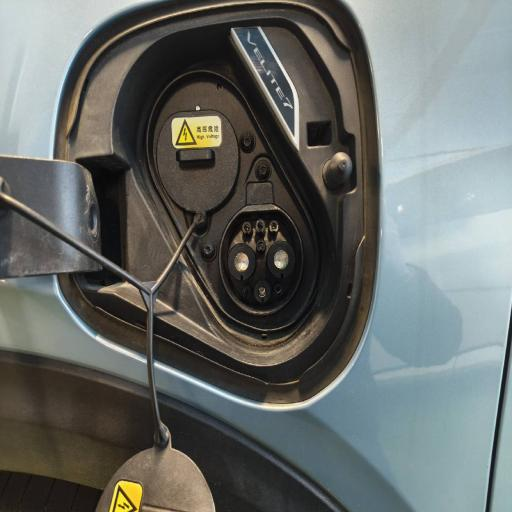DC_charging_port: (219, 204, 305, 318)
DC_hole: (227, 243, 257, 282), (266, 240, 296, 279)
PE: (254, 280, 270, 302)
